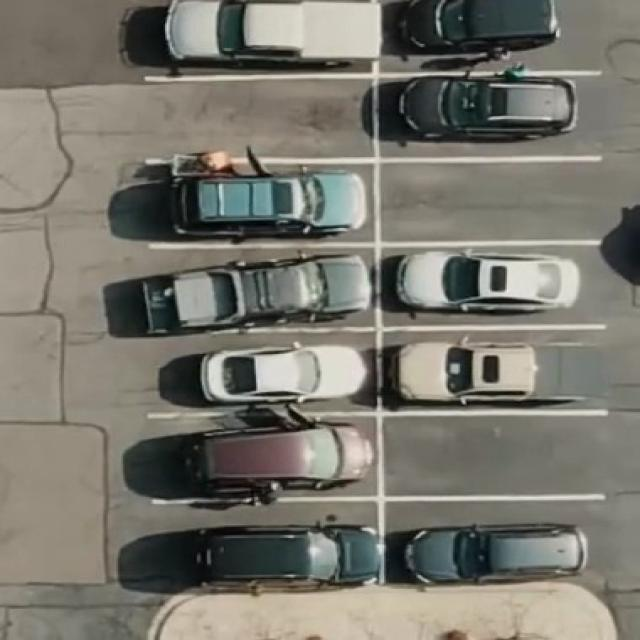space-empty: (138, 71, 376, 161), (374, 156, 606, 248), (379, 411, 608, 501)
space-occupied: (118, 497, 384, 593), (128, 241, 377, 337), (131, 412, 379, 501), (126, 329, 378, 415), (379, 323, 611, 412), (376, 68, 600, 160), (382, 497, 605, 586), (138, 159, 377, 242), (381, 240, 601, 326), (136, 0, 380, 76), (380, 0, 572, 71)
